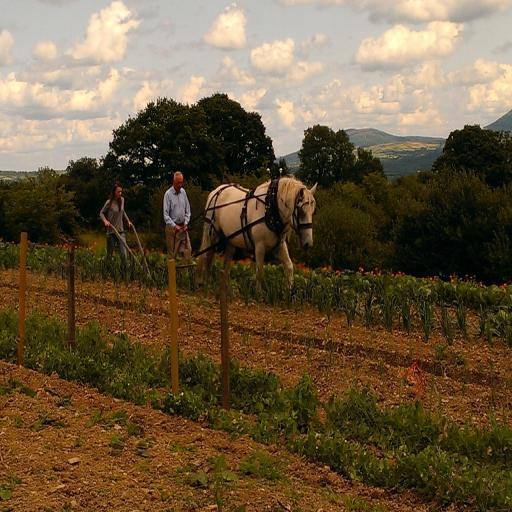Horse: (193, 174, 318, 290)
